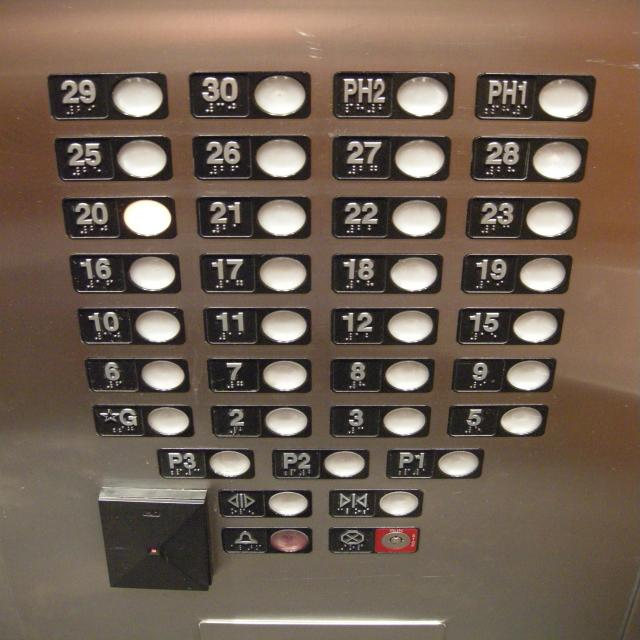10: (74, 302, 190, 347)
11: (199, 304, 314, 350)
12: (327, 303, 444, 346)
15: (455, 303, 566, 349)
16: (65, 251, 184, 296)
17: (197, 250, 315, 297)
18: (328, 250, 446, 298)
19: (459, 249, 576, 298)
2: (208, 402, 316, 441)
20: (58, 192, 179, 242)
21: (193, 190, 316, 242)
22: (328, 192, 450, 241)
23: (464, 192, 581, 245)
25: (51, 130, 177, 185)
26: (190, 130, 315, 183)
27: (326, 132, 453, 184)
28: (469, 133, 590, 184)
29: (45, 68, 169, 123)
3: (327, 400, 433, 441)
30: (186, 68, 314, 120)
5: (446, 402, 554, 441)
6: (84, 353, 194, 394)
7: (206, 353, 314, 398)
8: (328, 353, 438, 396)
9: (452, 354, 559, 398)
P1: (384, 444, 486, 482)
P2: (270, 446, 371, 479)
P3: (154, 445, 256, 481)
PH1: (472, 71, 599, 123)
PH2: (330, 66, 458, 125)
alarm: (220, 522, 315, 556)
close: (326, 486, 426, 521)
open: (215, 485, 317, 521)
sG: (90, 403, 198, 441)
stop: (325, 524, 424, 556)
